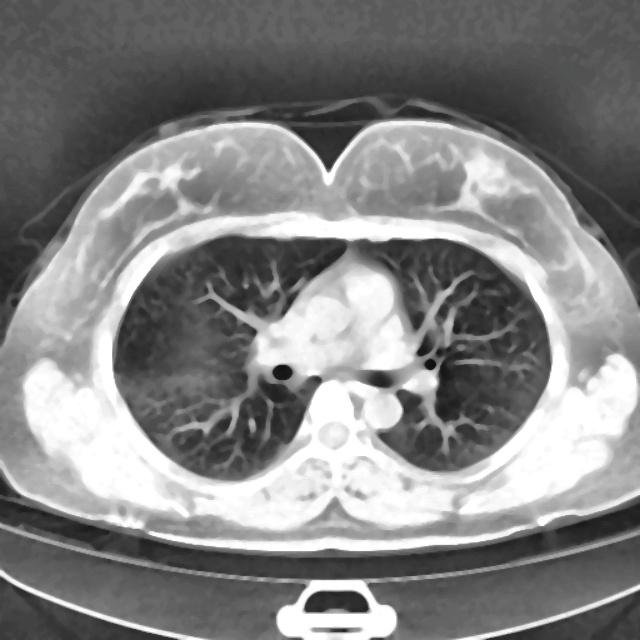covid: (0, 104, 639, 557)
